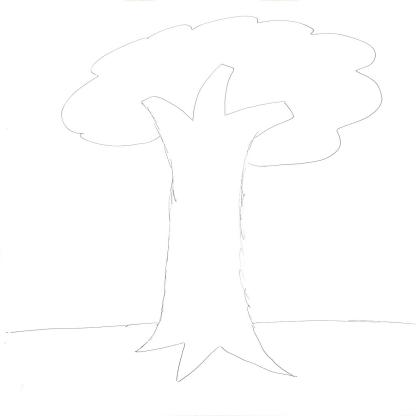branch_cut: (134, 60, 297, 140)
crown_cloud: (57, 16, 386, 171)
root_upside: (130, 312, 298, 383)
trunk_straight: (156, 188, 256, 294)
